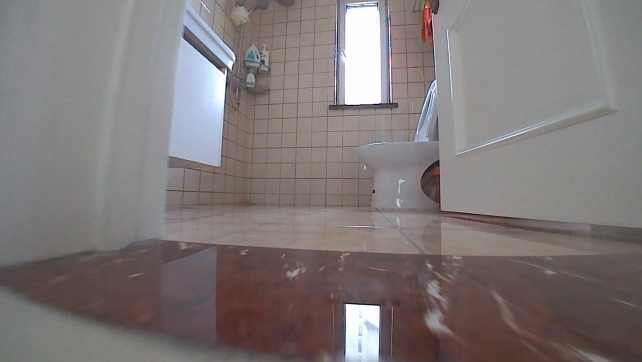door_anno: (430, 0, 640, 232)
door_sill: (3, 230, 640, 360)
toilet: (355, 80, 441, 210)
